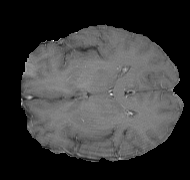Edema: (57, 105, 131, 142)
EnhancingTumors: (81, 101, 102, 126)
Necrosis: (81, 109, 103, 126)
